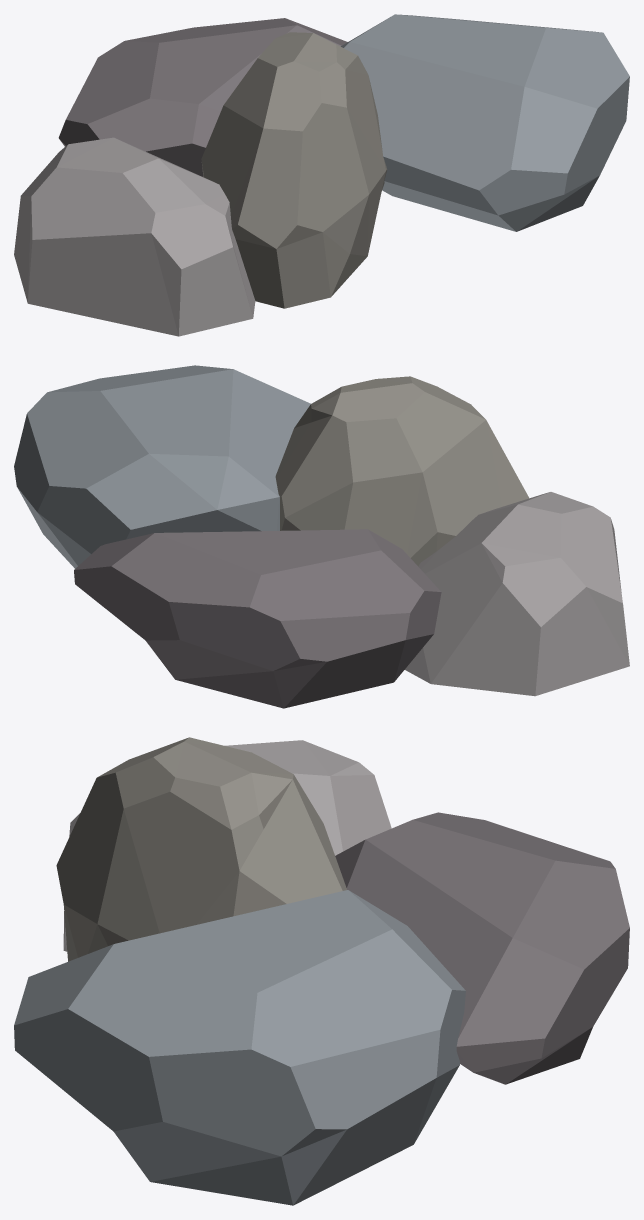
File: Rocks_Round_m_03 2.fbx
3 renders of one model, top to bottom at view 1: azimuth 30°, elevation 25°; view 2: azimuth 150°, elevation 25°; view 3: azimuth 270°, elevation 25°, orthographic. The views are drawn at different scales.
Parts seen in each view (by area): view 1: Rocks_Round_m_03; view 2: Rocks_Round_m_03; view 3: Rocks_Round_m_03.
Part boxes in pixels (x1,y1,x2,y2): Rocks_Round_m_03: (14,14,629,336); Rocks_Round_m_03: (14,365,629,708); Rocks_Round_m_03: (14,737,629,1205).
Bounding box in the file's own units: 229 × 76.08 × 160.
